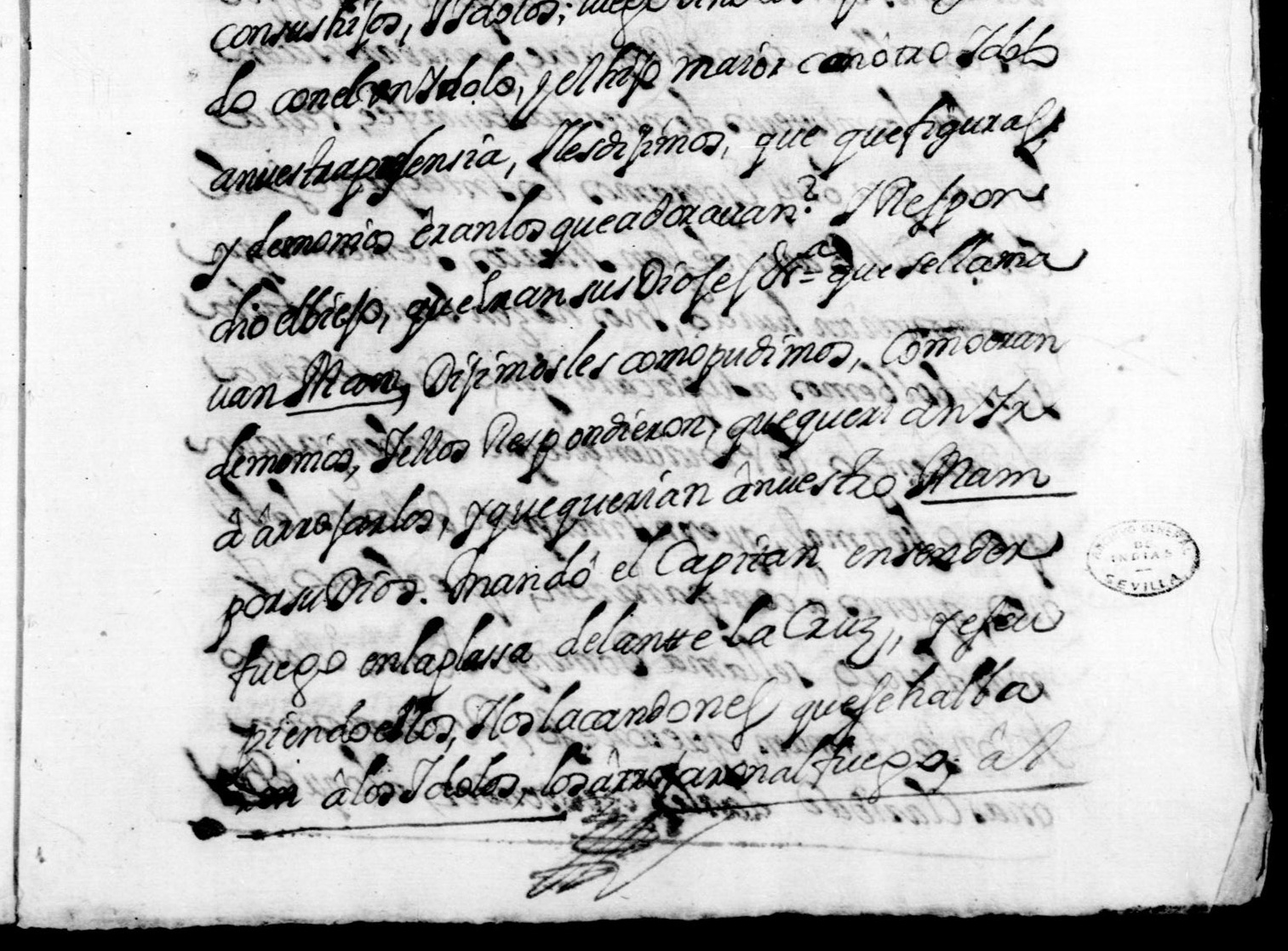lacandon: (536, 676, 780, 751)
